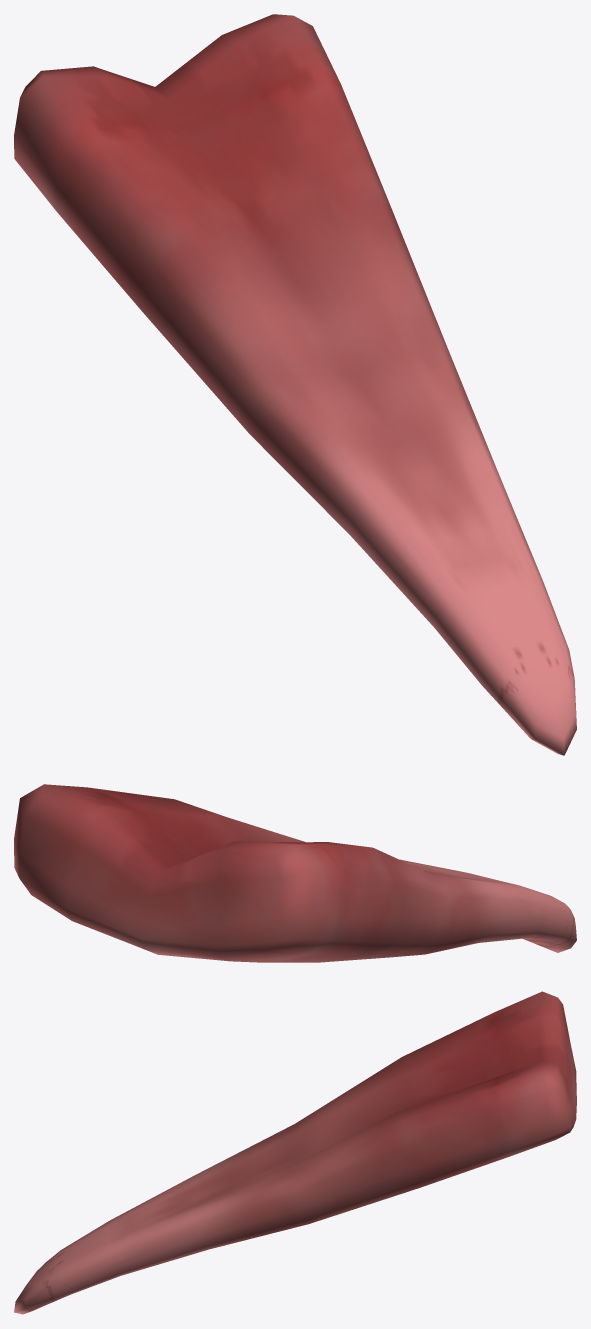
File: Lengua.obj
The picture shows the model from 3 angles, top to bottom: view 1: azimuth 30°, elevation 25°; view 2: azimuth 150°, elevation 25°; view 3: azimuth 270°, elevation 25°; orthographic projection. The views are drawn at different scales.
Parts seen in each view (by area): view 1: treeGroup23113; view 2: treeGroup23113; view 3: treeGroup23113.
Boxes of the visible parts, x1,y1,x2,y2 form: treeGroup23113: (14, 14, 576, 755); treeGroup23113: (14, 784, 576, 962); treeGroup23113: (14, 991, 576, 1314).
Bounding box in the file's own units: 24.05 × 32.52 × 58.73.
1 material, 1 textured.
